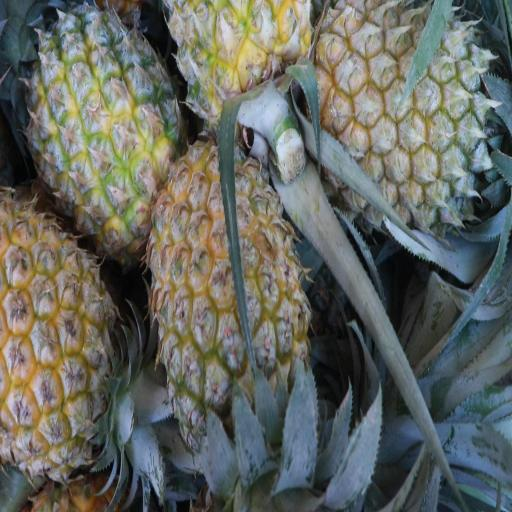------------------------------: (157, 141, 307, 439)
Pineapple - v8 v1: (0, 208, 127, 476), (30, 10, 177, 234), (175, 0, 310, 139)
